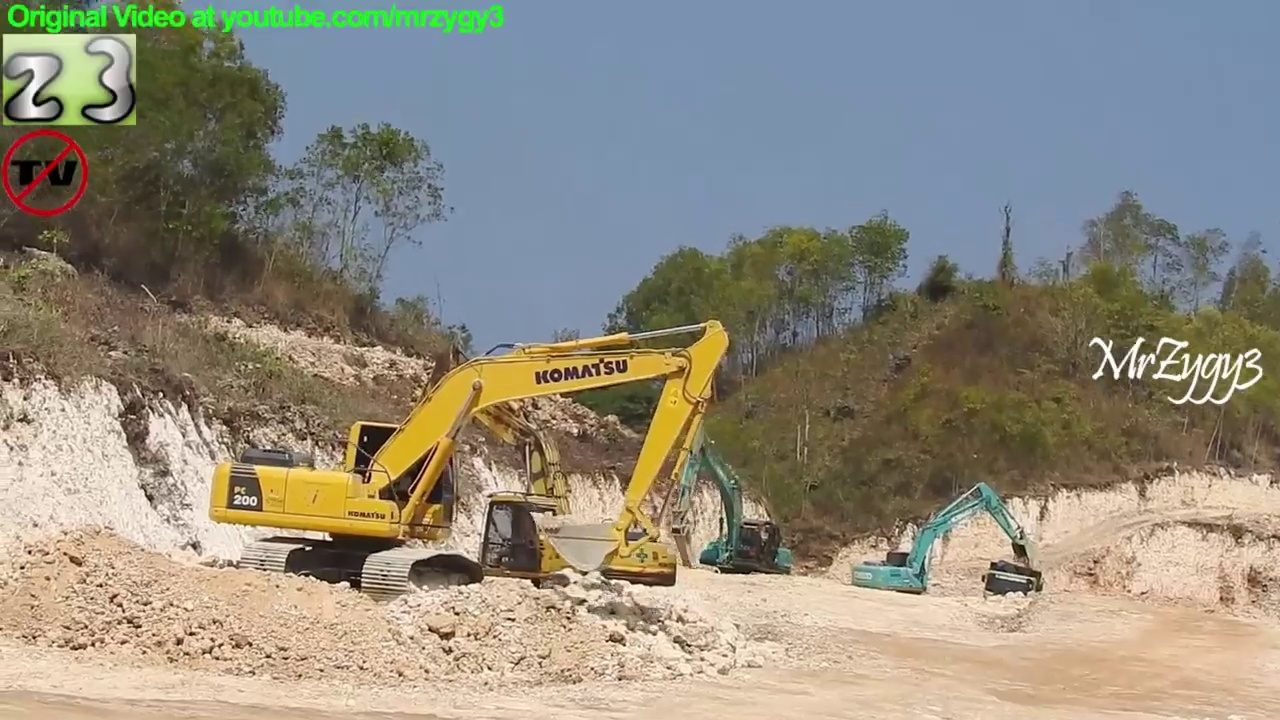excavator: (205, 312, 736, 609), (357, 344, 685, 603), (847, 478, 1040, 612), (664, 412, 796, 590)
truck: (977, 557, 1048, 627)
